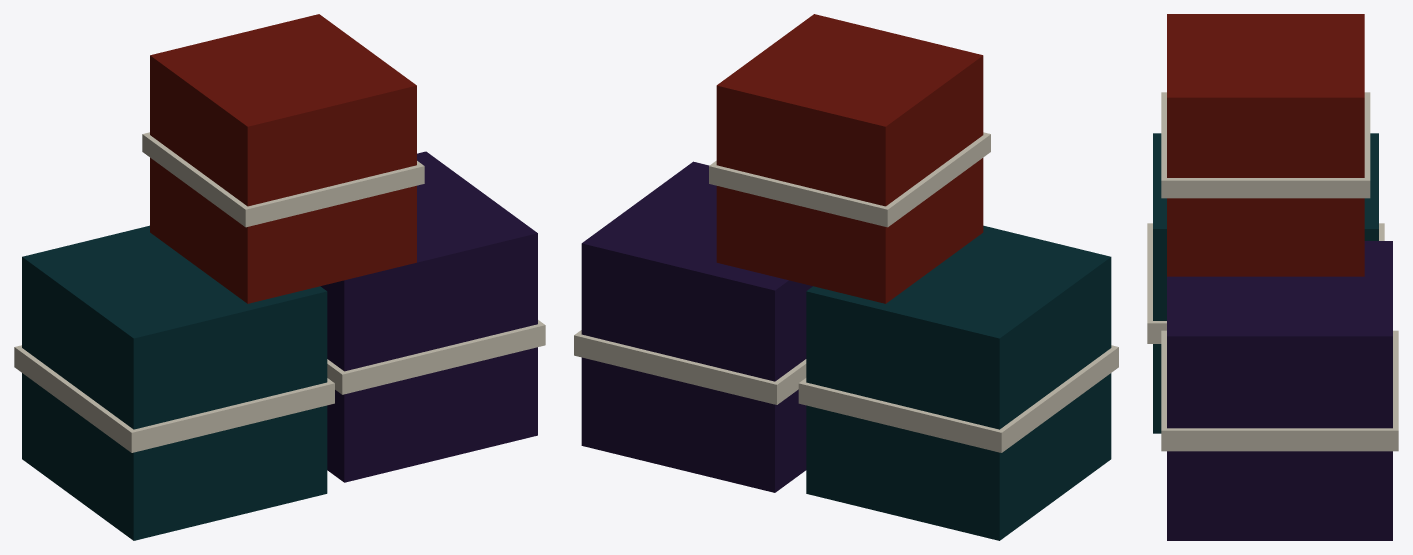
Rendered from crate_stack.glb.
3 views of the same model, side by side, from view 1: azimuth 30°, elevation 25°; view 2: azimuth 150°, elevation 25°; view 3: azimuth 270°, elevation 25° (orthographic).
Parts seen in each view (by area): view 1: crate_stack; view 2: crate_stack; view 3: crate_stack.
Boxes of the visible parts, x1,y1,x2,y2 form: crate_stack: (14, 14, 545, 540); crate_stack: (574, 14, 1118, 540); crate_stack: (1147, 14, 1398, 540).
Bounding box in the file's own units: 1.74 × 1.5 × 0.89.
